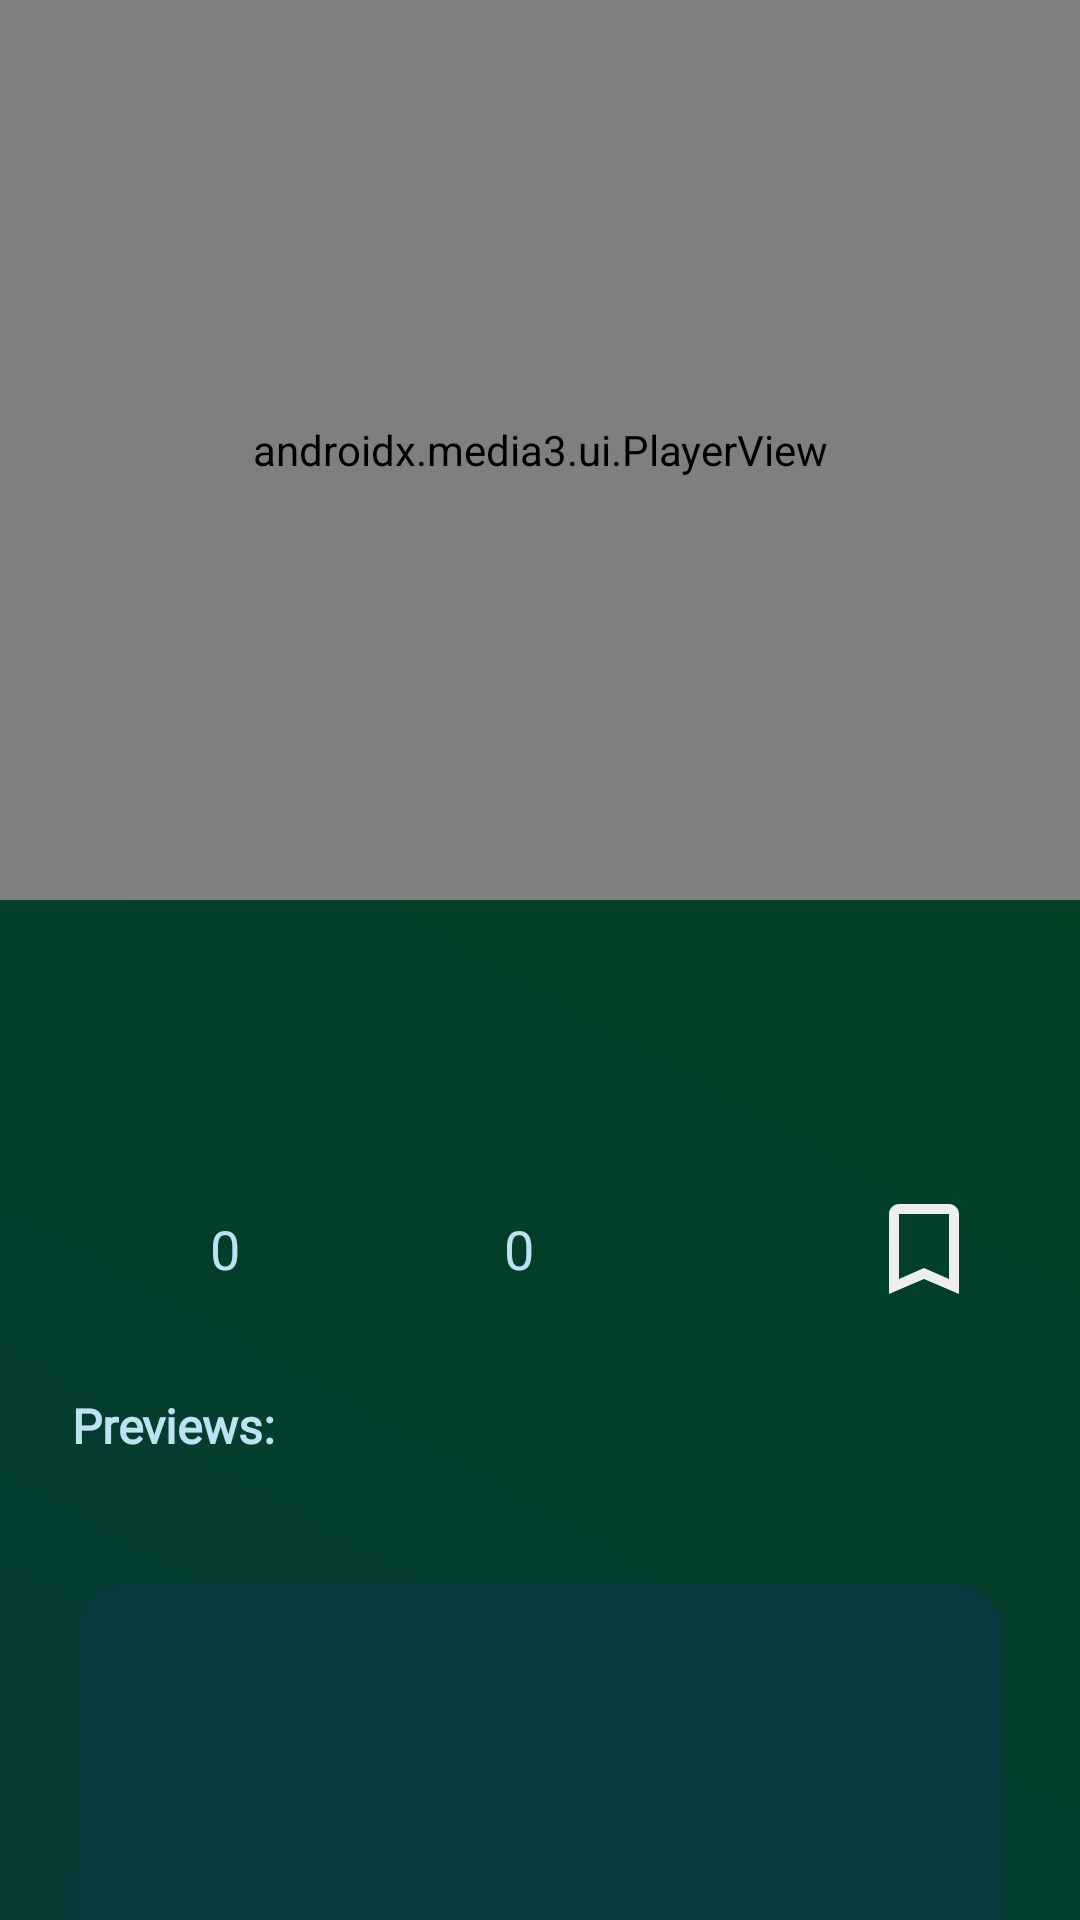

Named icons in this screenshot (1080×1920) and their centers, (x=x, y=y):
ussaved: (x=924, y=1249)
